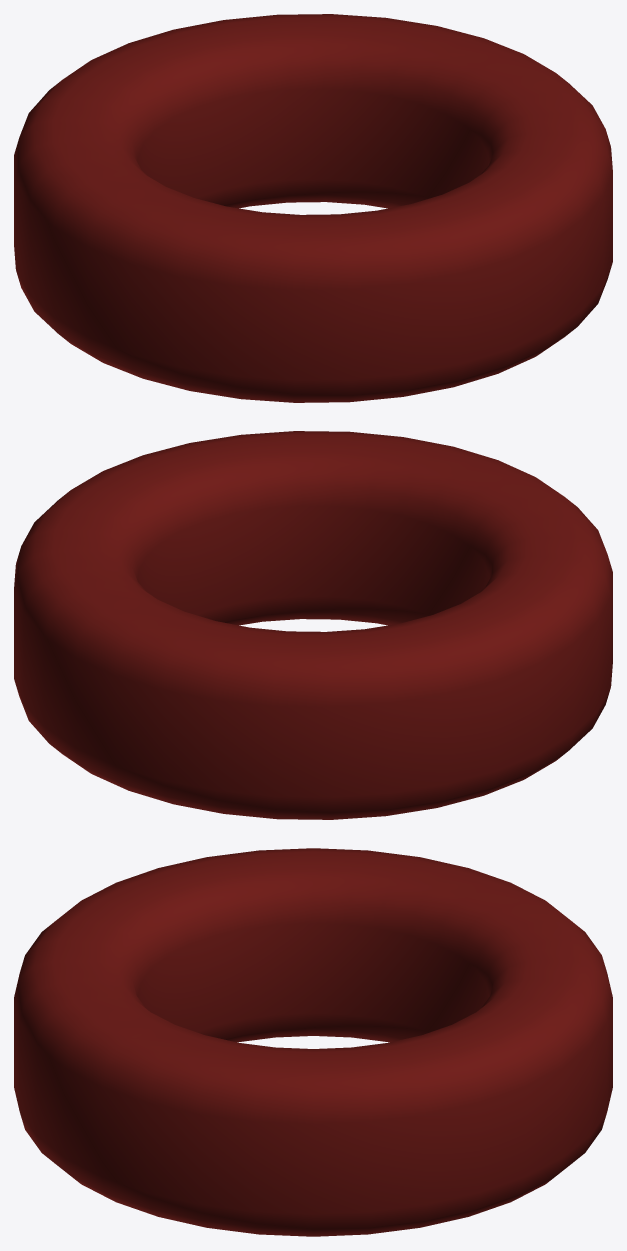
Rendered from Jelly_Green_PlainMouth.fbx.
3 views of the same model, one above another, from view 1: azimuth 30°, elevation 25°; view 2: azimuth 150°, elevation 25°; view 3: azimuth 270°, elevation 25° (orthographic).
Parts seen in each view (by area): view 1: Cylinder.010; view 2: Cylinder.010; view 3: Cylinder.010.
Part boxes in pixels (left/top/right/bottom): Cylinder.010: left=14, top=14, right=612, bottom=402; Cylinder.010: left=14, top=431, right=612, bottom=819; Cylinder.010: left=14, top=848, right=612, bottom=1236.
Size of the model in its own units: 21.83 by 6.52 by 21.83.
